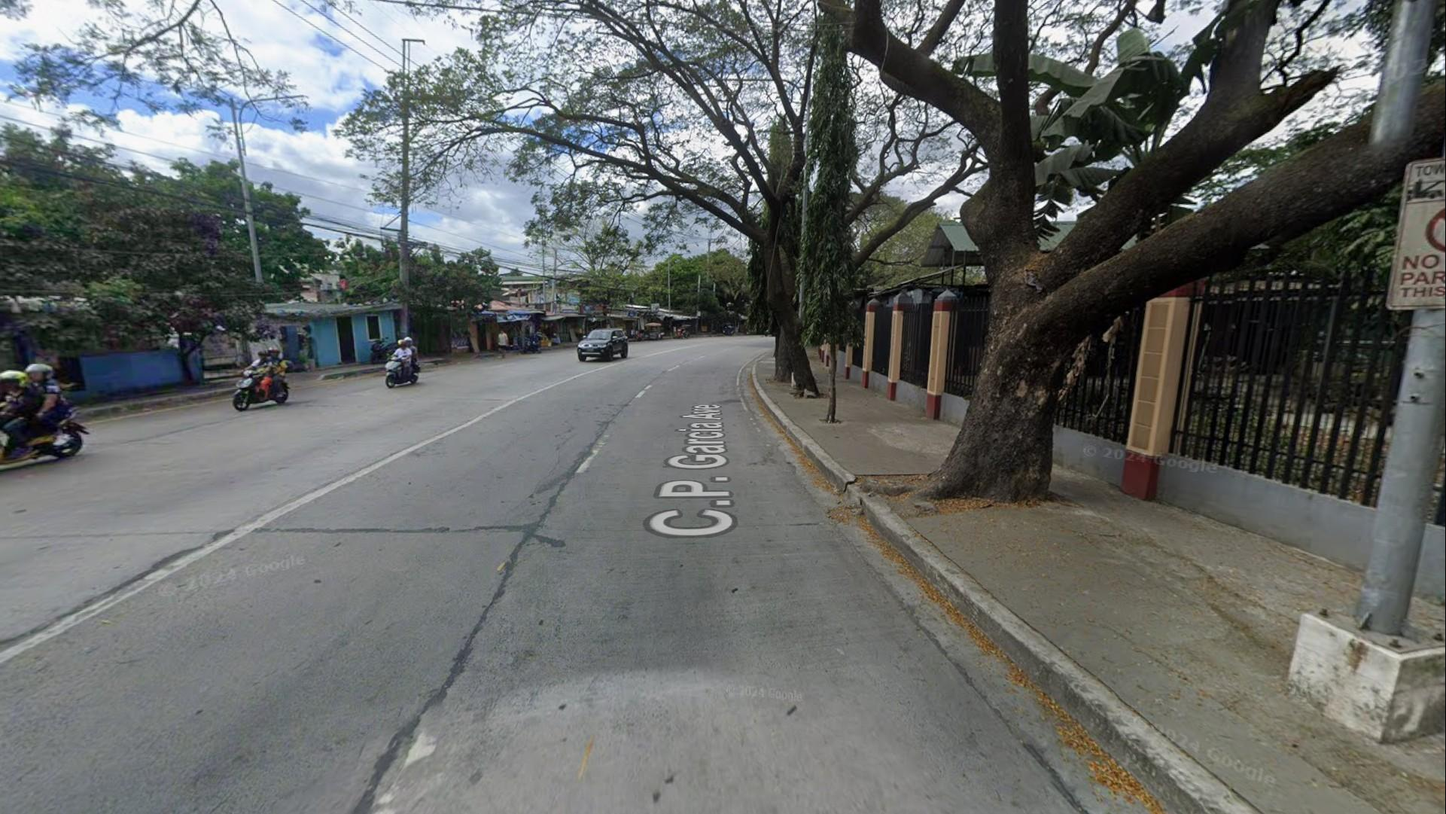pedestrian: (498, 329, 509, 358)
